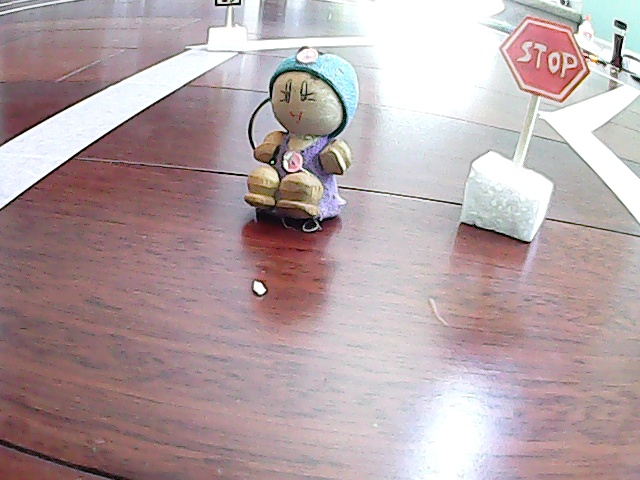pedestrain: (246, 52, 365, 231)
stop: (469, 15, 595, 245)
